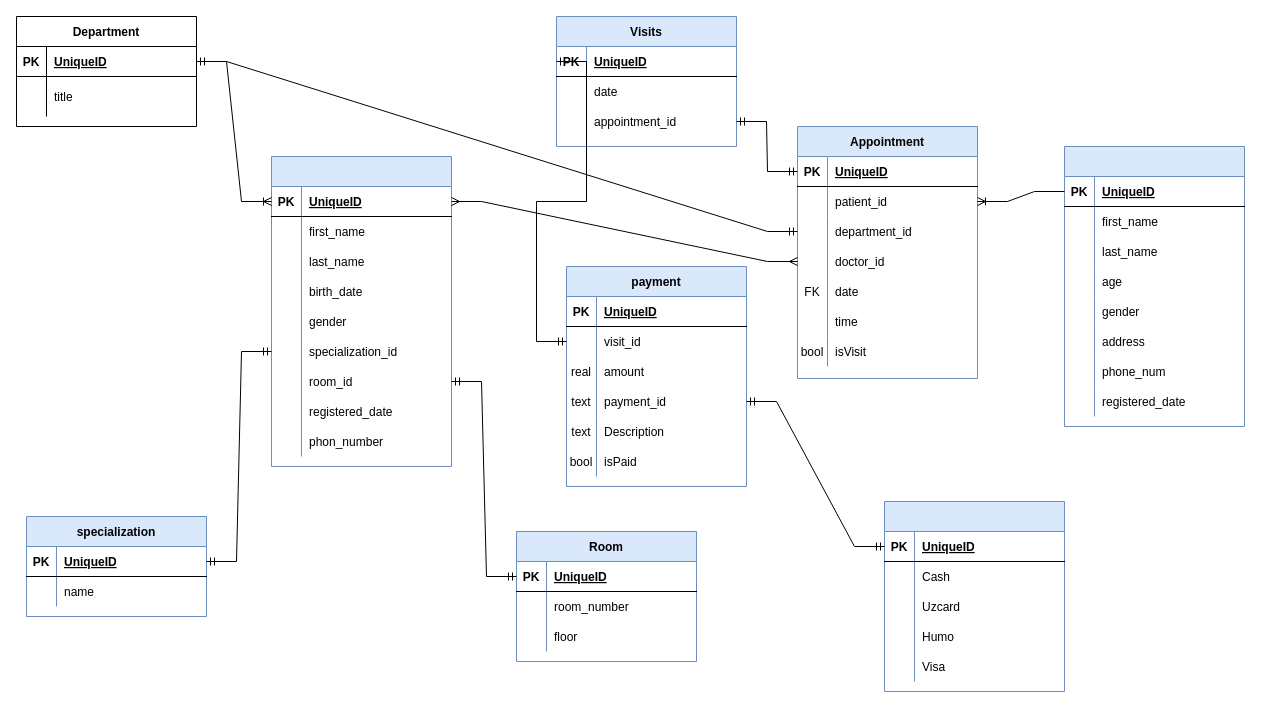
Image size: 1261x708. Some labels were removed from this diagram. Here are the shapes that lost their labels. From the top down, the box of each, then its label:
(1064, 146, 1244, 426): Patient
(270, 156, 452, 466): Doctor
(884, 500, 1064, 692): payment_type
